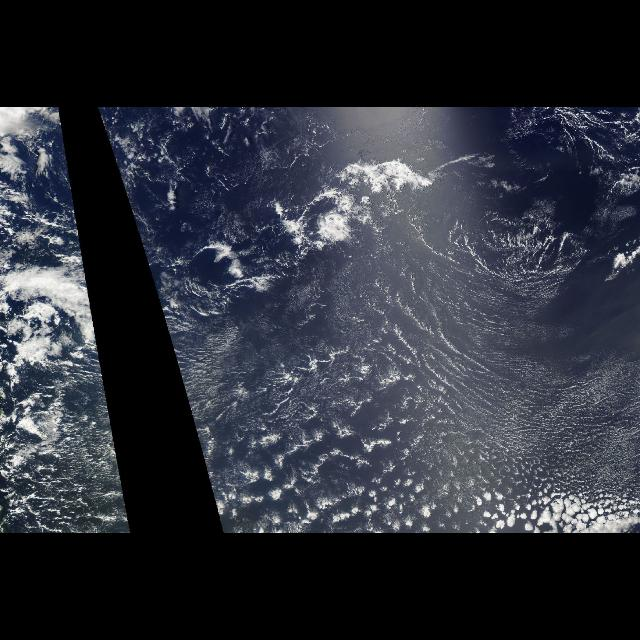Sugar: (402, 259, 640, 483)
